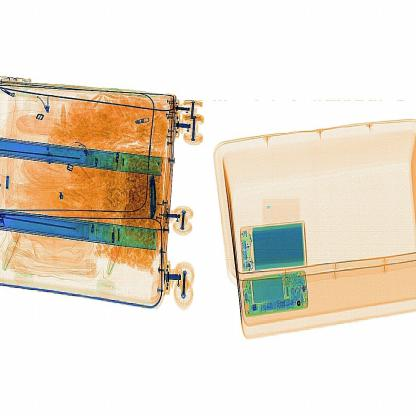knife: (124, 160, 171, 229)
